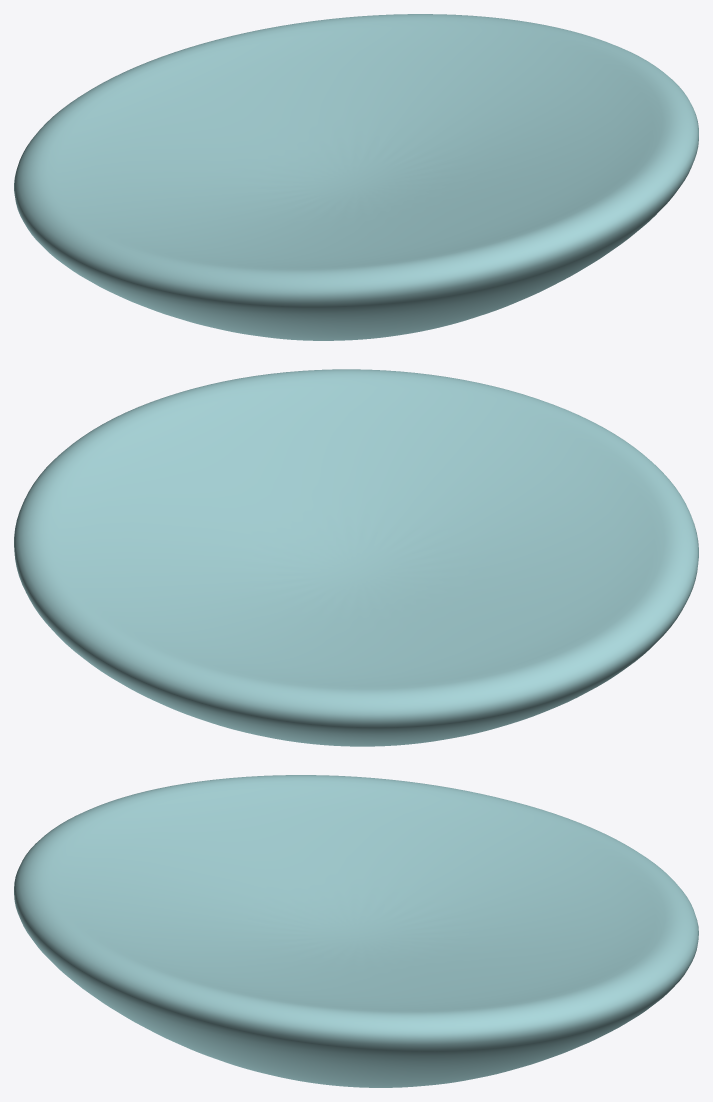
3 renders of one model, top to bottom at view 1: azimuth 30°, elevation 25°; view 2: azimuth 150°, elevation 25°; view 3: azimuth 270°, elevation 25°, orthographic.
Parts seen in each view (by area): view 1: 左侧眼前房; view 2: 左侧眼前房; view 3: 左侧眼前房.
Boxes of the visible parts, x1,y1,x2,y2 form: 左侧眼前房: (14,14,698,340); 左侧眼前房: (14,369,698,746); 左侧眼前房: (14,775,698,1087).
Size of the model in its own units: 0.0188 by 0.00553 by 0.0188.
